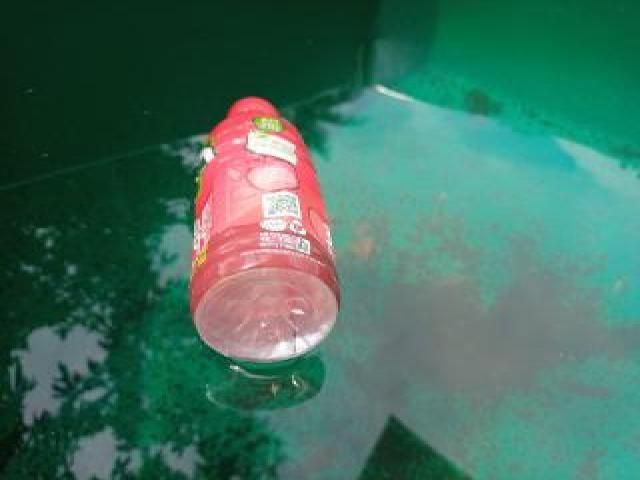Bottle: (181, 98, 342, 378)
